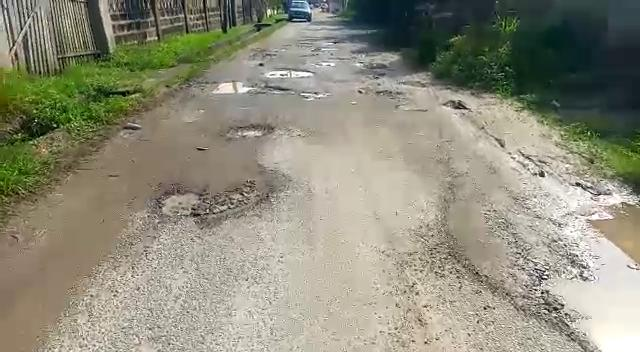pothole: (538, 197, 639, 350), (155, 174, 282, 228), (208, 81, 294, 95), (224, 122, 279, 140), (262, 66, 314, 78)
